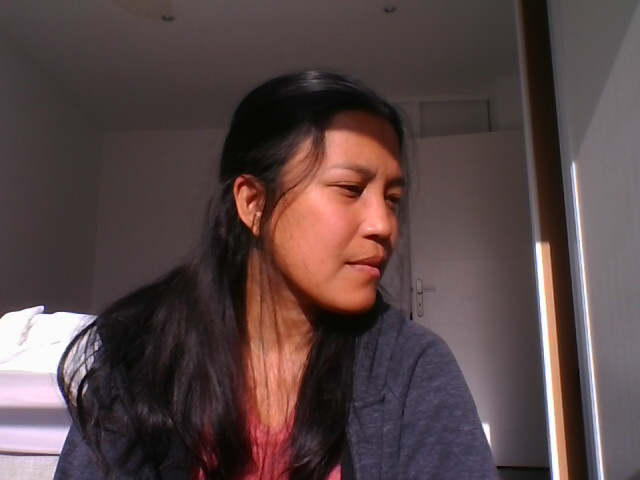face: (232, 70, 406, 311)
